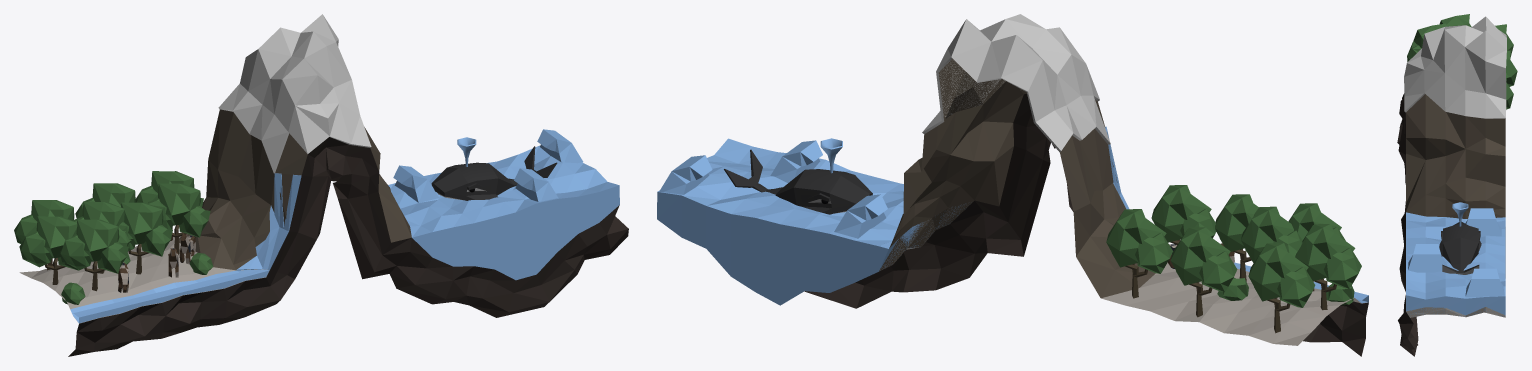
The model's file is water_cycle_base.FBX.
The picture shows the model from 3 angles, left to right: view 1: azimuth 30°, elevation 25°; view 2: azimuth 150°, elevation 25°; view 3: azimuth 270°, elevation 25°; orthographic projection. The views are drawn at different scales.
Visible parts, largest first — view 1: MONTAÑA, MAIN-WATER002, SNOW, RIVER001, TREE008, BALLENA001, TREE006, TREE001, TREE007, Object005, TREE004, WAVE004 (+5 smaller); view 2: MONTAÑA, MAIN-WATER002, SNOW, BALLENA001, TREE003, TREE004, TREE002, TREE007, TREE006, TREE005, TREE001, WAVE004 (+3 smaller); view 3: MONTAÑA, SNOW, MAIN-WATER002, BALLENA001, WAVE001, WAVE003, WAVE004, TREE008, TREE007, TREE003, CHORRITO, TREE004 (+1 smaller).
Boxes of the visible parts, box(x1,y1,x2,y2) form: MONTAÑA: box(19, 109, 628, 356); MAIN-WATER002: box(388, 145, 619, 280); SNOW: box(218, 14, 371, 173); RIVER001: box(70, 269, 269, 323); TREE008: box(60, 219, 128, 291); BALLENA001: box(431, 146, 557, 200); TREE006: box(147, 183, 210, 254); TREE001: box(119, 202, 172, 274); TREE007: box(19, 216, 78, 284); Object005: box(236, 173, 301, 270); TREE004: box(14, 200, 74, 270); WAVE004: box(393, 165, 439, 202); MONTAÑA: box(804, 58, 1368, 356); MAIN-WATER002: box(657, 138, 965, 305); SNOW: box(922, 14, 1110, 152); BALLENA001: box(724, 149, 872, 214); TREE003: box(1170, 227, 1237, 317); TREE004: box(1248, 243, 1315, 333); TREE002: box(1106, 209, 1172, 298); TREE007: box(1295, 224, 1361, 310); TREE006: box(1151, 185, 1216, 244); TREE005: box(1241, 206, 1302, 262); TREE001: box(1215, 194, 1258, 281); WAVE004: box(834, 194, 887, 238); MONTAÑA: box(1397, 93, 1505, 356); SNOW: box(1404, 16, 1506, 118); MAIN-WATER002: box(1406, 212, 1505, 316); BALLENA001: box(1439, 221, 1481, 274); WAVE001: box(1465, 268, 1504, 297); WAVE003: box(1408, 244, 1446, 272); WAVE004: box(1465, 208, 1501, 236); TREE008: box(1407, 23, 1446, 61); TREE007: box(1439, 14, 1471, 27); TREE003: box(1506, 50, 1517, 86); CHORRITO: box(1452, 202, 1468, 226); TREE004: box(1495, 24, 1513, 58).
Bounding box in the file's own units: 27.85 × 14.1 × 6.03.
